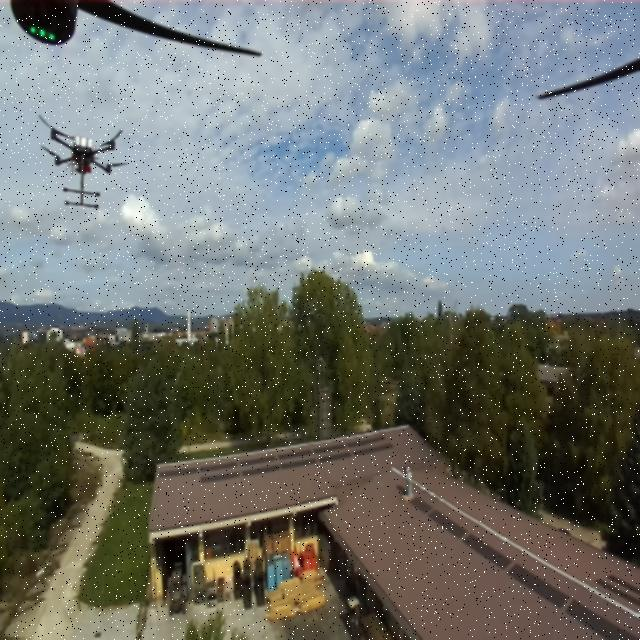UAV: (32, 112, 131, 212)
